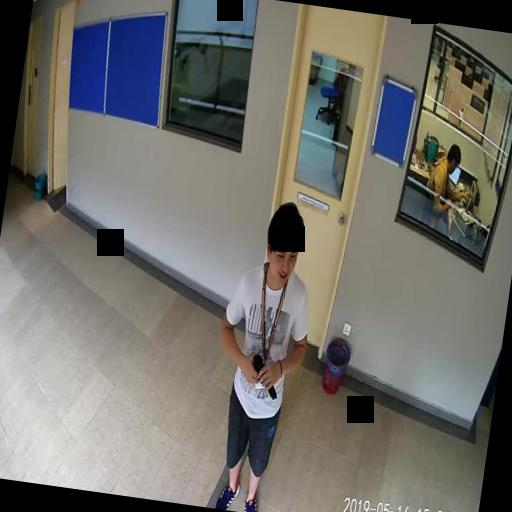Handgun: (246, 352, 280, 398)
